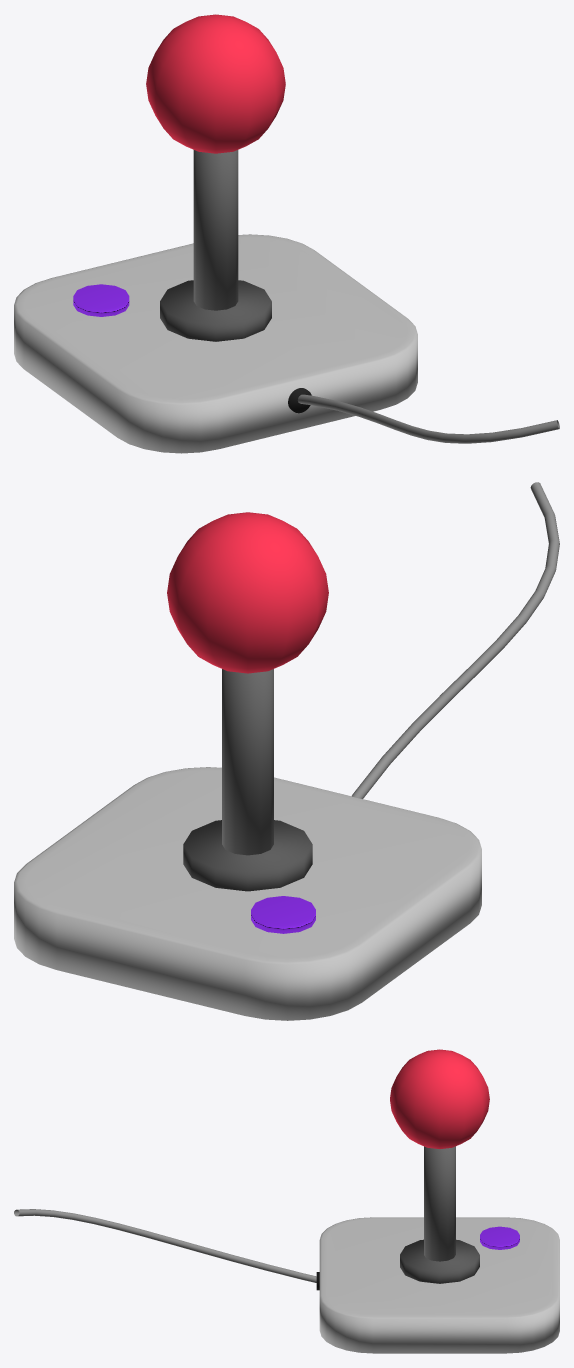
Rendered from joystick.glb.
The picture shows the model from 3 angles, top to bottom: view 1: azimuth 30°, elevation 25°; view 2: azimuth 150°, elevation 25°; view 3: azimuth 270°, elevation 25°; orthographic projection. The views are drawn at different scales.
Parts seen in each view (by area): view 1: Cube, Sphere, Neck, Cylinder.001, BézierCurve, Button; view 2: Cube, Sphere, Neck, Cylinder.001, BézierCurve, Button; view 3: Cube, Sphere, Neck, Cylinder.001, BézierCurve, Button.
Part boxes in pixels (<box>): Cube: <box>14,234,417,453</box>; Sphere: <box>146,14,285,153</box>; Neck: <box>193,150,238,310</box>; Cylinder.001: <box>160,280,271,341</box>; BézierCurve: <box>297,394,559,443</box>; Button: <box>73,284,129,316</box>; Cube: <box>14,767,481,1020</box>; Sphere: <box>167,512,328,673</box>; Neck: <box>222,669,273,855</box>; Cylinder.001: <box>183,820,312,891</box>; BézierCurve: <box>352,482,559,798</box>; Button: <box>251,896,315,933</box>; Cube: <box>319,1217,559,1353</box>; Sphere: <box>390,1049,489,1148</box>; Neck: <box>424,1146,455,1261</box>; Cylinder.001: <box>400,1239,479,1283</box>; BézierCurve: <box>14,1209,316,1282</box>; Button: <box>480,1226,519,1249</box>.
Bounding box in the file's own units: 6 × 6.87 × 13.64.
